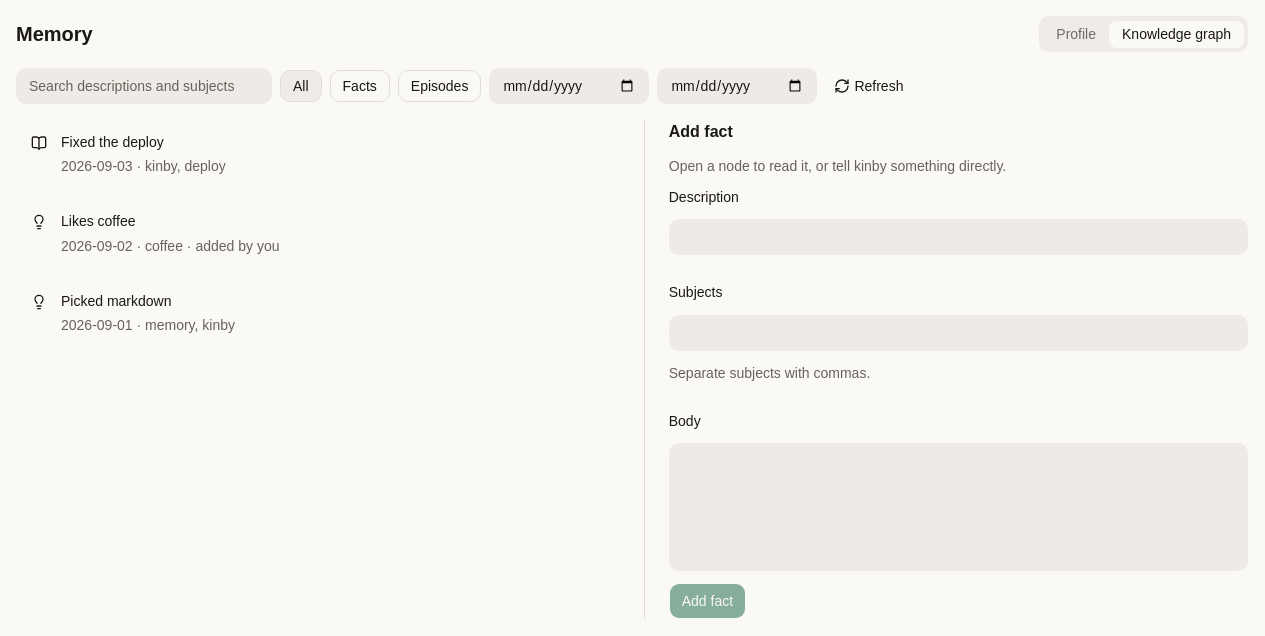
the memory page › says a fact the user added was added by them, with no thread
Click the button "Likes coffee 2026-09-02 · coffee · added by you": (98, 221) [16,199,620,269]
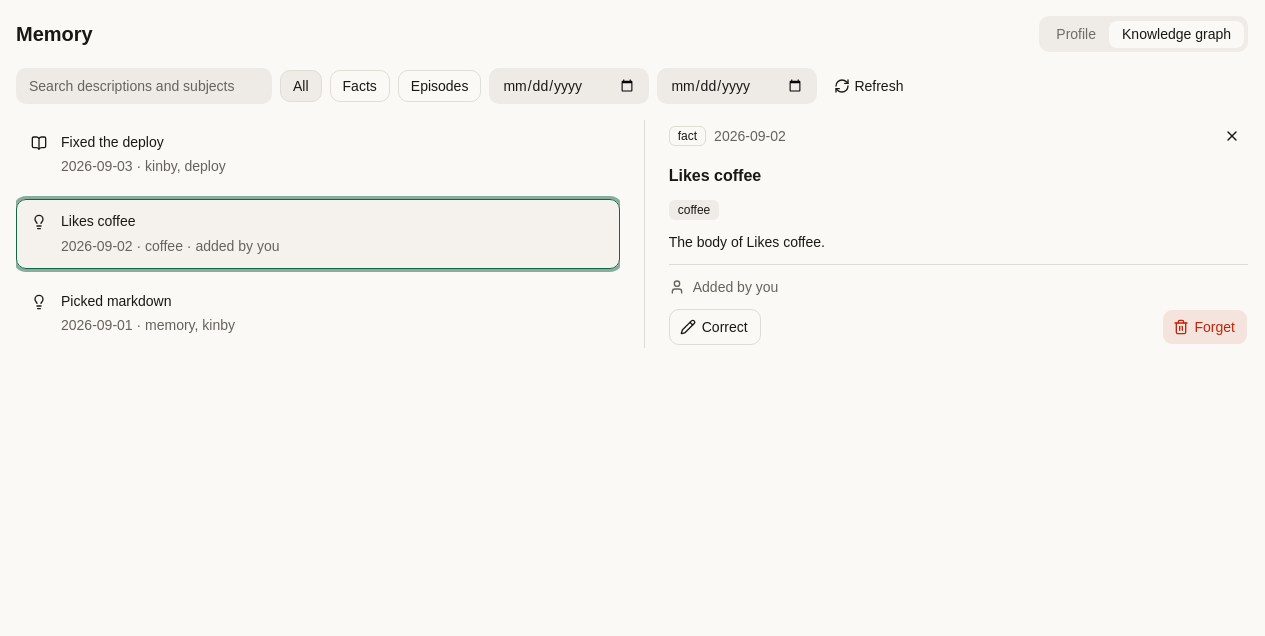
Result: the text "Added by you" is shown at [669,279,778,295]
